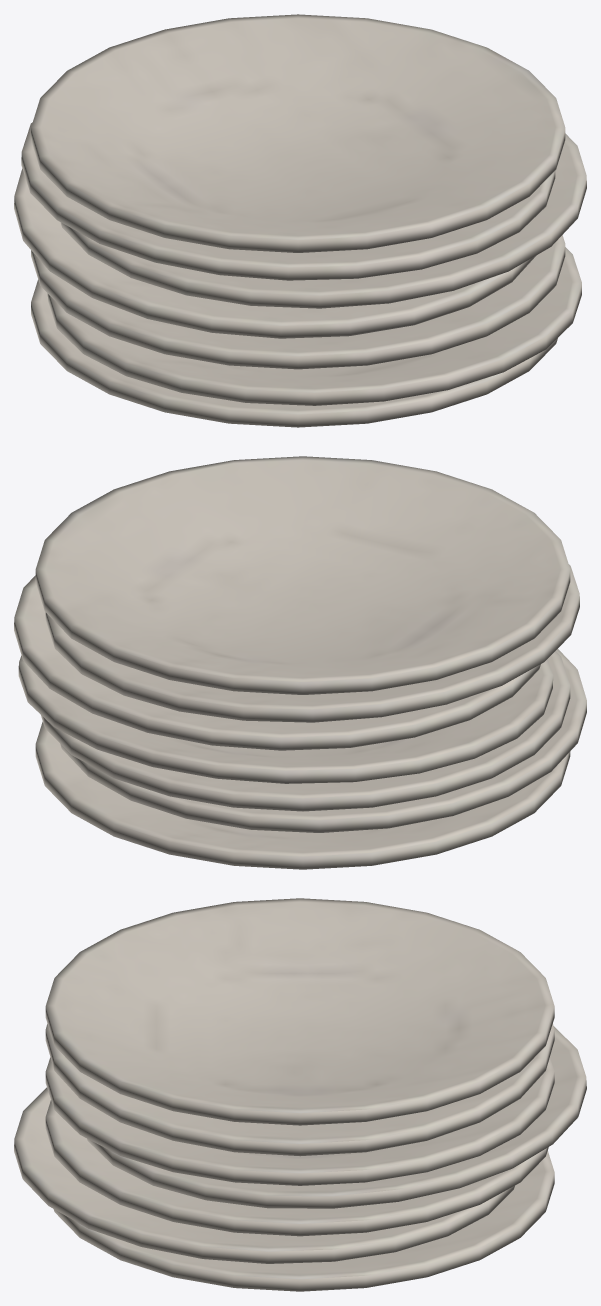
File: KP_Plate_Set.FBX
The picture shows the model from 3 angles, top to bottom: view 1: azimuth 30°, elevation 25°; view 2: azimuth 150°, elevation 25°; view 3: azimuth 270°, elevation 25°; orthographic projection. The views are drawn at different scales.
Visible parts, largest first — view 1: KP_Plate_Set; view 2: KP_Plate_Set; view 3: KP_Plate_Set.
Boxes of the visible parts, x1=… form: KP_Plate_Set: x1=14, y1=14, x2=586, y2=427; KP_Plate_Set: x1=14, y1=456, x2=586, y2=869; KP_Plate_Set: x1=14, y1=898, x2=586, y2=1291.
Bounding box in the file's own units: 34.68 × 14.75 × 36.57.
